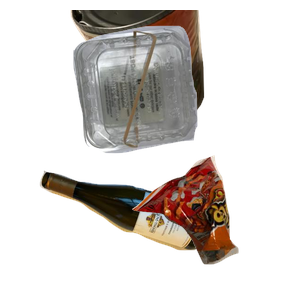glass: (37, 168, 242, 300)
metal: (68, 10, 265, 131)
plastic: (71, 23, 300, 169)
trash: (130, 153, 300, 300)
